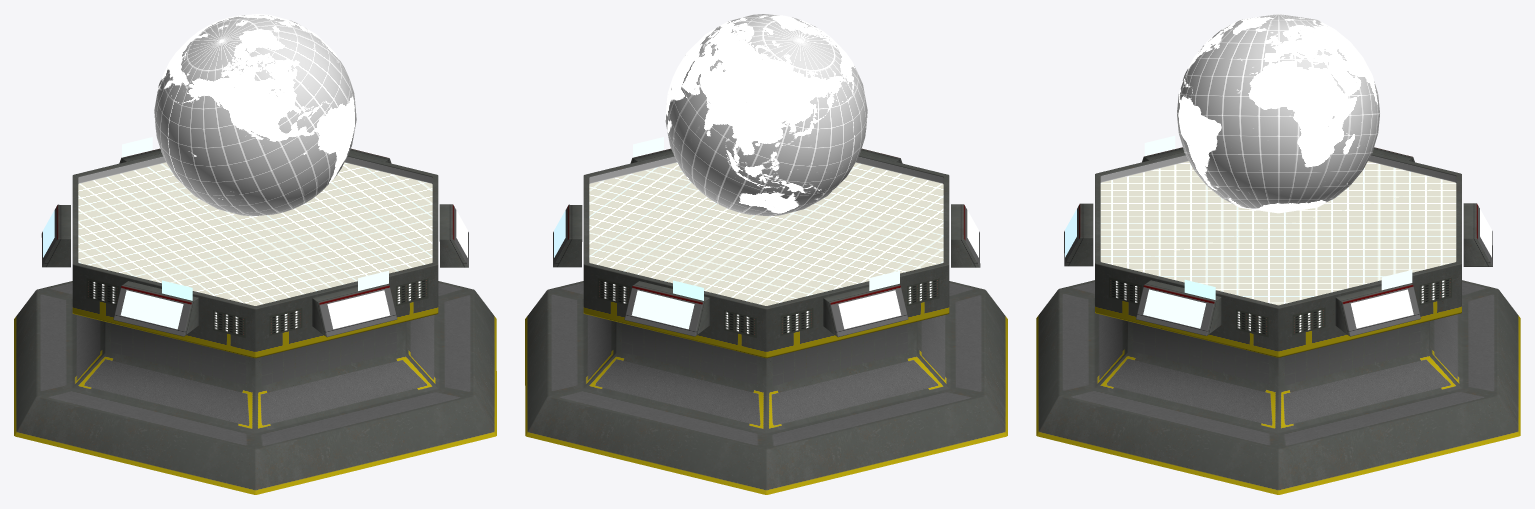
Rendered from holo_globe.glb.
The picture shows the model from 3 angles, left to right: view 1: azimuth 30°, elevation 25°; view 2: azimuth 150°, elevation 25°; view 3: azimuth 270°, elevation 25°; orthographic projection.
Visible parts, largest first — view 1: Table, Hologram; view 2: Table, Hologram; view 3: Table, Hologram.
Part boxes in pixels (x1=…): Table: x1=14, y1=137, x2=496, y2=494; Hologram: x1=154, y1=14, x2=356, y2=216; Table: x1=525, y1=137, x2=1007, y2=494; Hologram: x1=665, y1=14, x2=867, y2=216; Table: x1=1036, y1=135, x2=1520, y2=494; Hologram: x1=1176, y1=14, x2=1380, y2=213.
Size of the model in its own units: 2.87 by 2.02 by 2.49.
2 materials, 1 textured.
